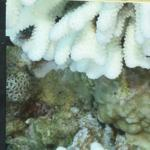alive: (10, 4, 147, 147)
